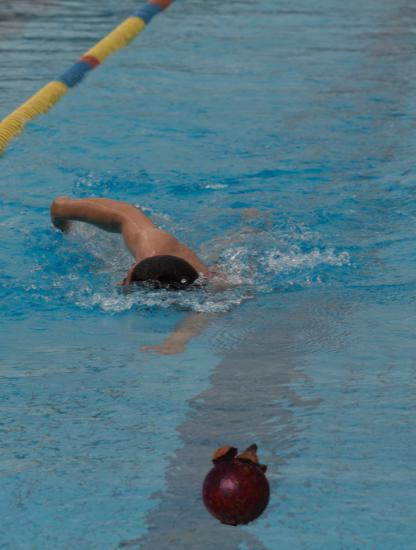Mangostan: (195, 440, 281, 526)
